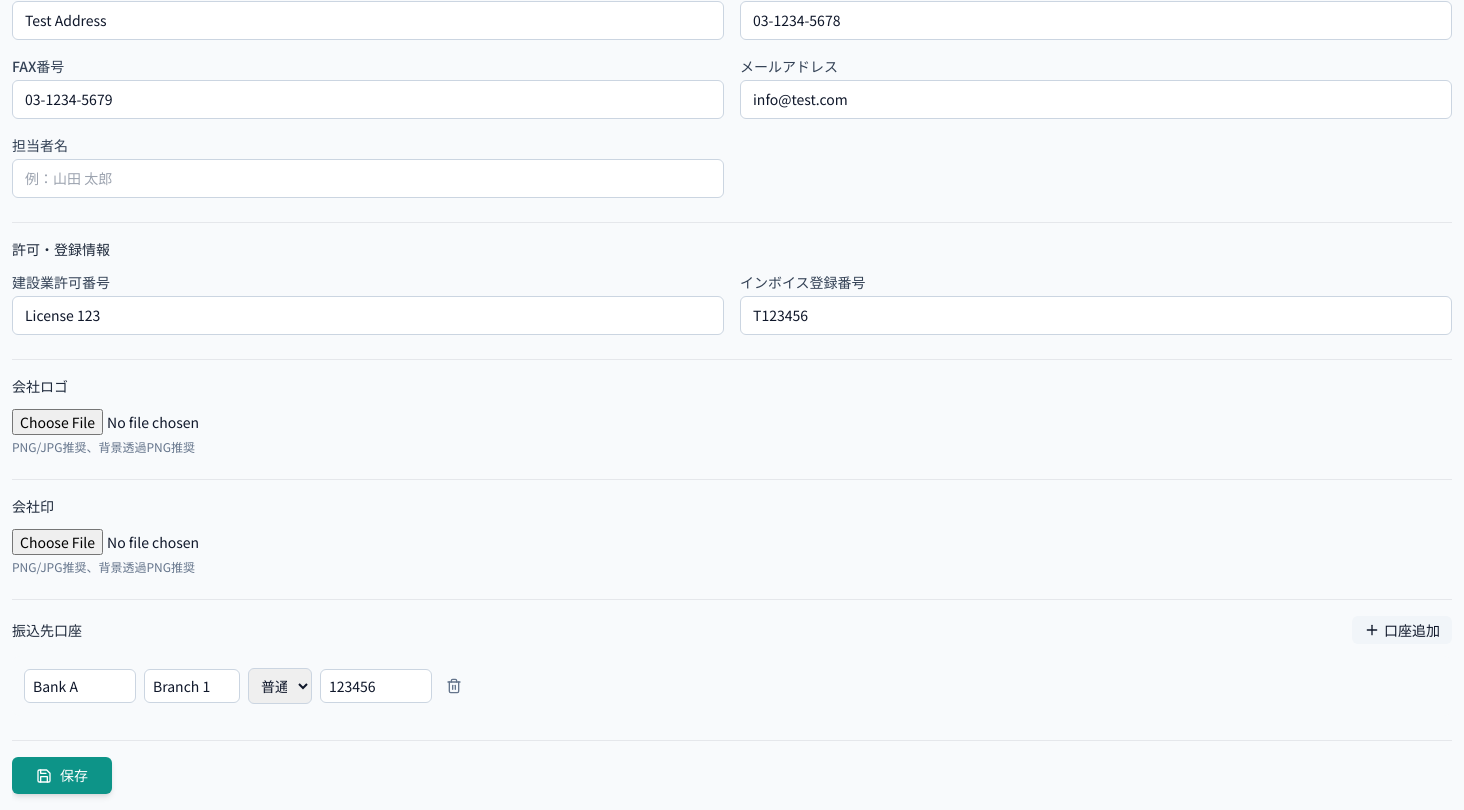
Scenario: CompanyInfoSettings › should add a bank account
(page scrolled)
Click the button "口座追加" at (1402, 630), box [1352,616,1452,644]
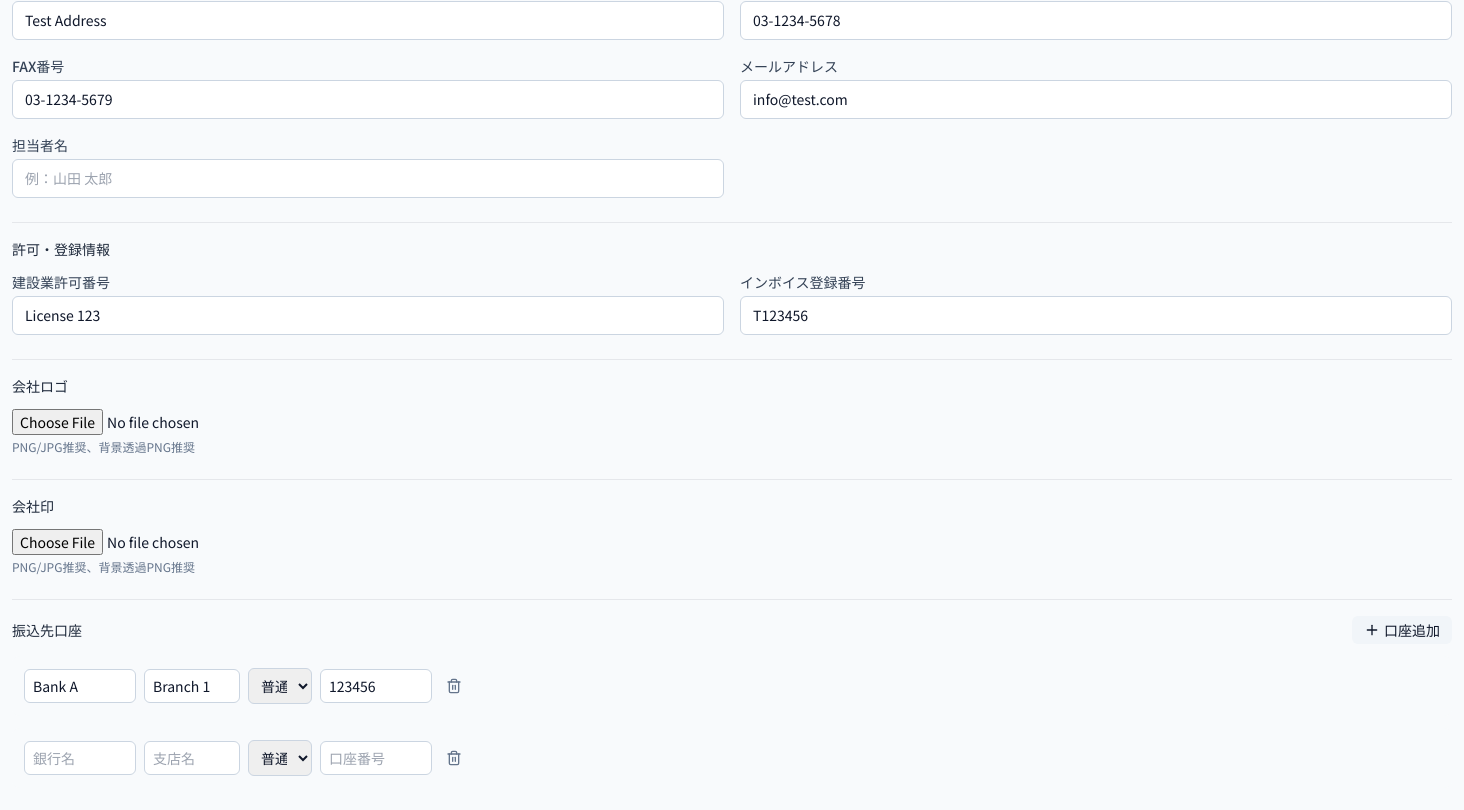
Expected: the number of fields with placeholder "銀行名" is 2, [24,669,136,703]; [24,741,136,775]
